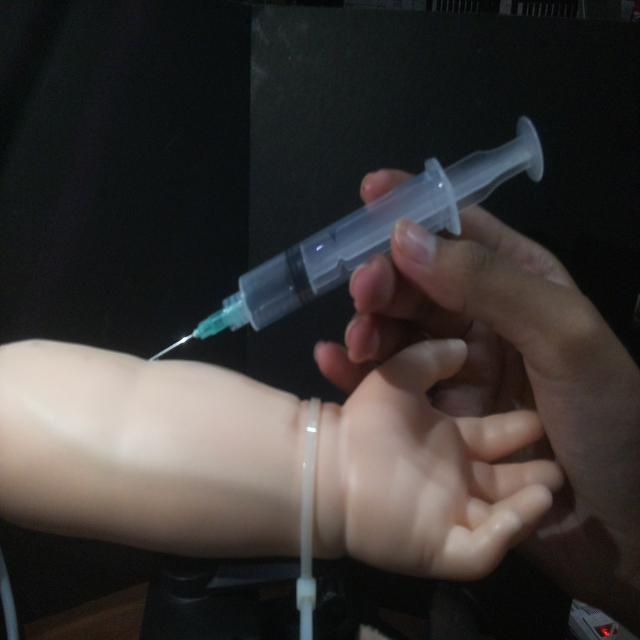26deg: (145, 110, 548, 365)
